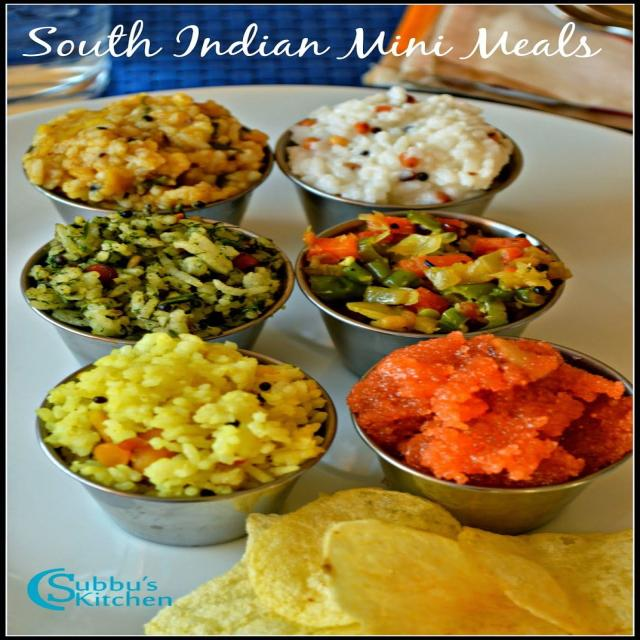veg meals: (12, 76, 640, 640)
